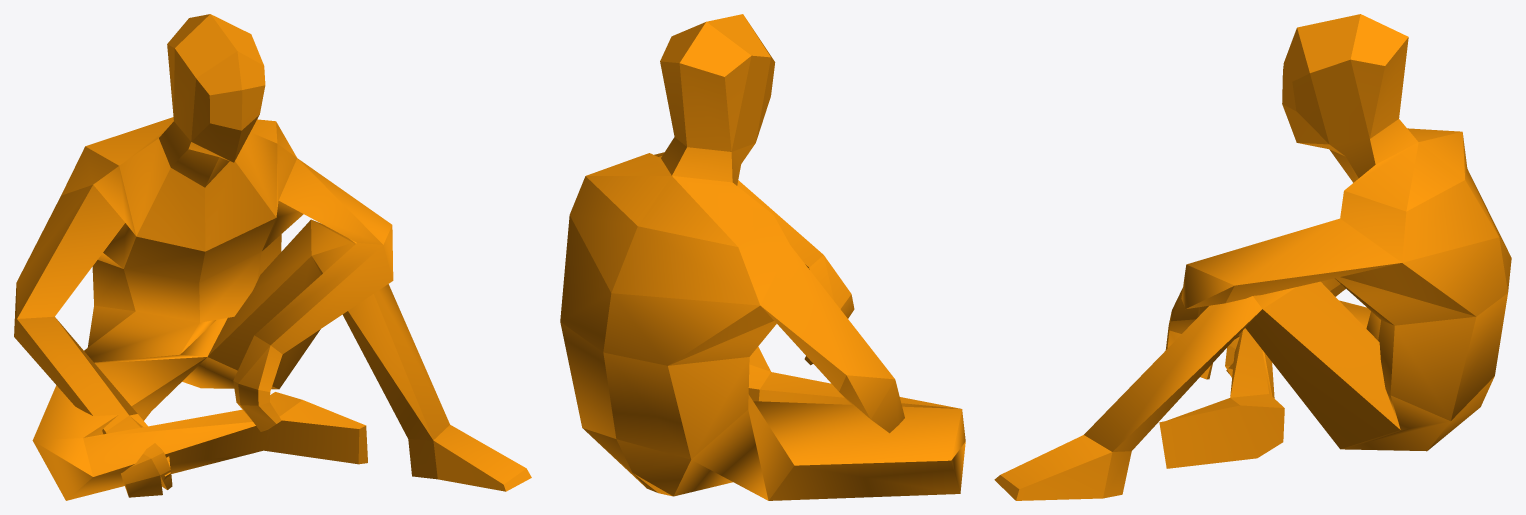
The model's file is Human10.fbx.
The picture shows the model from 3 angles, left to right: view 1: azimuth 30°, elevation 25°; view 2: azimuth 150°, elevation 25°; view 3: azimuth 270°, elevation 25°; orthographic projection. The views are drawn at different scales.
Visible parts, largest first — view 1: Human10; view 2: Human10; view 3: Human10.
Boxes of the visible parts, bbox=[...] form: Human10: bbox=[14, 14, 531, 500]; Human10: bbox=[560, 14, 965, 500]; Human10: bbox=[994, 14, 1511, 500].
Bounding box in the file's own units: 80.28 × 89.08 × 95.08.
